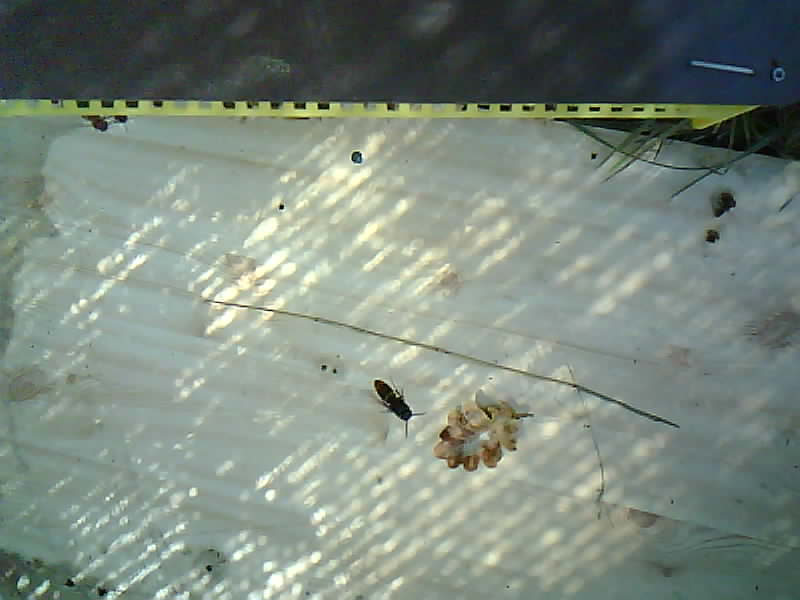hornet: (369, 372, 418, 424)
